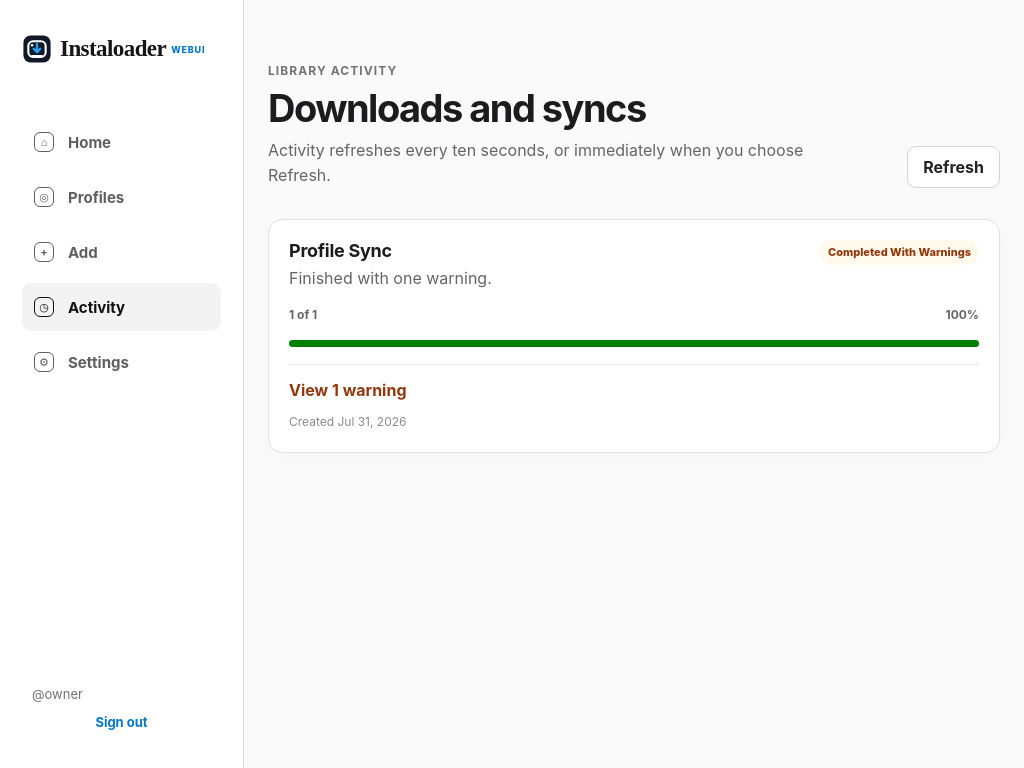
ActivityPage › keeps the warning summary when detail loading fails
This screenshot has width=1024, height=768.
Step 1. Click the button "View 1 warning" → point(348, 390), box [289, 380, 406, 400]
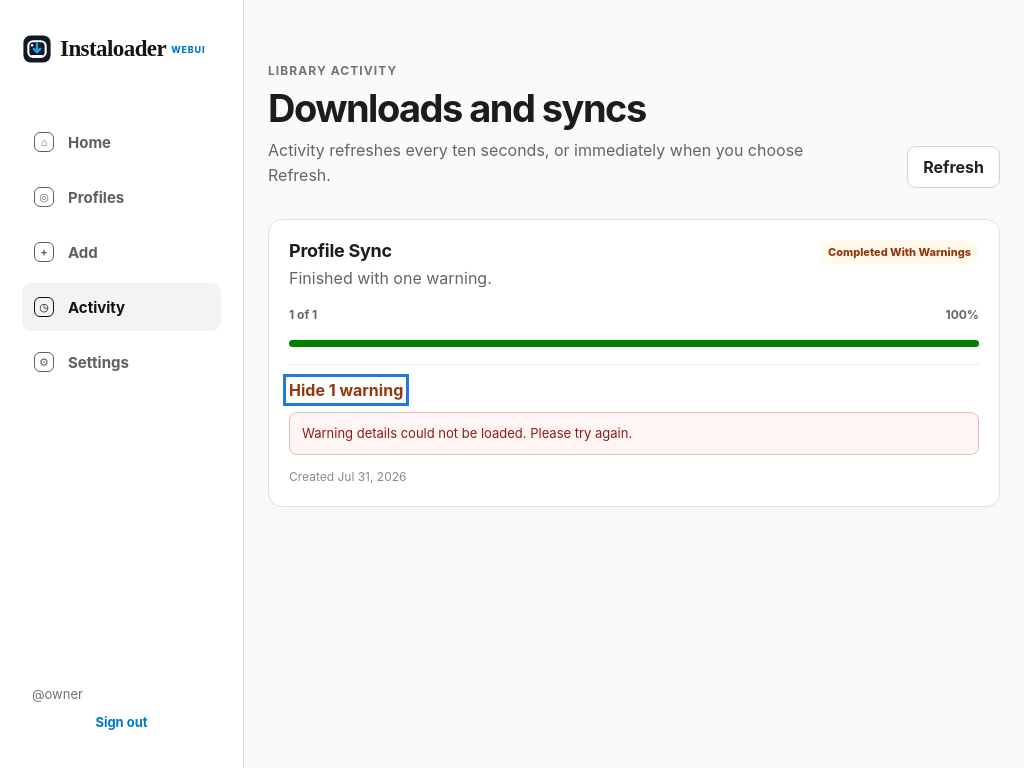
Check: the text "Completed with warnings" is shown, box [820, 240, 979, 265]
Check: the message reads "Warning details could not be loaded. Please try again.", box [302, 425, 632, 441]
